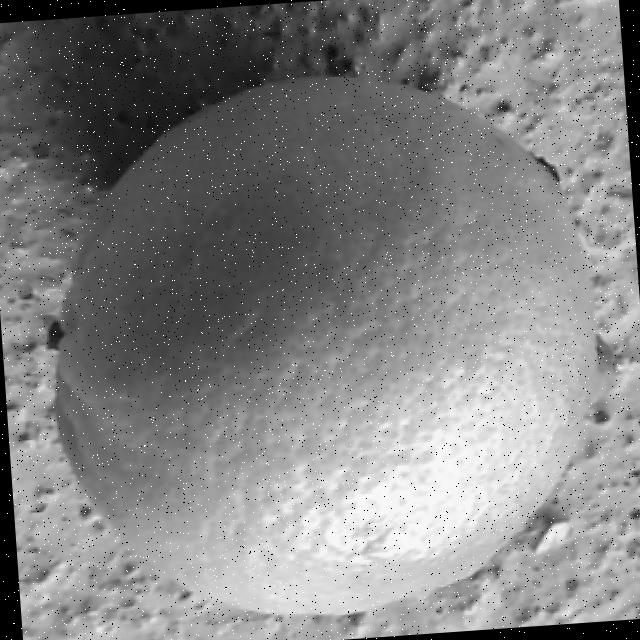Ripe: (19, 51, 628, 638)
